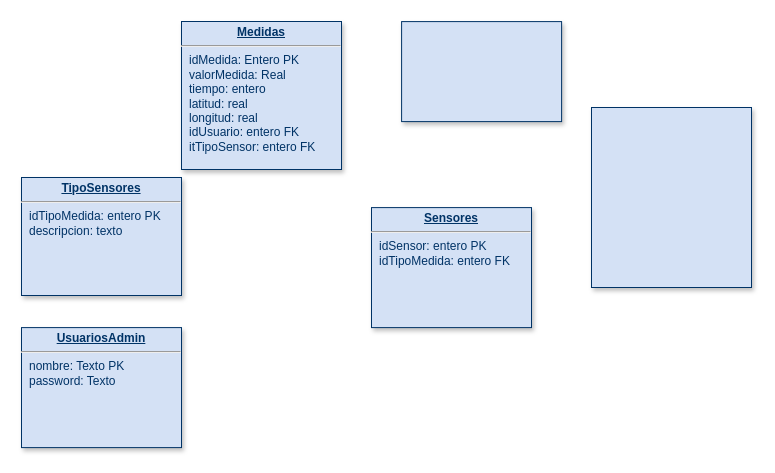
Some shapes in this 775 by 473 pixel diagram are drawn without their labels. The centre of each missing label's shape, as x and y in pixels:
"Usuarios IdUsuario: entero PK Email: texto PK Password: texto telefono: texto" belongs at point 672,198.
"UsuarioSensor idUsuario: entero FK idSensor: entero FK" belongs at point 482,73.
